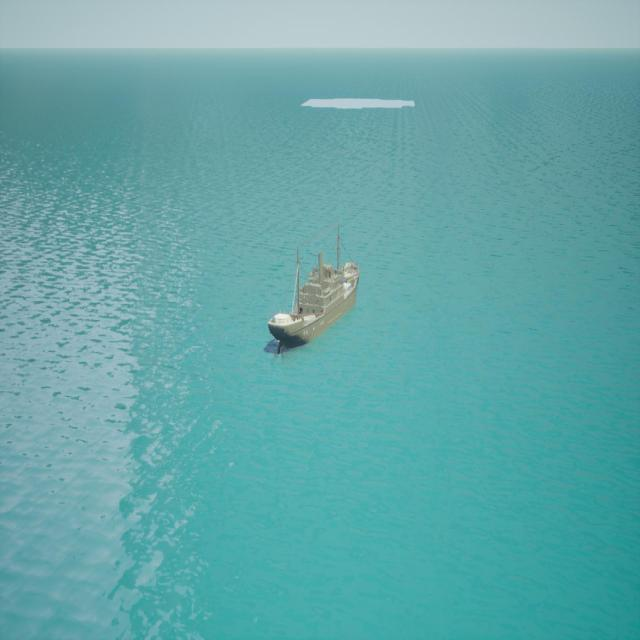fishing ship: (267, 223, 359, 354)
